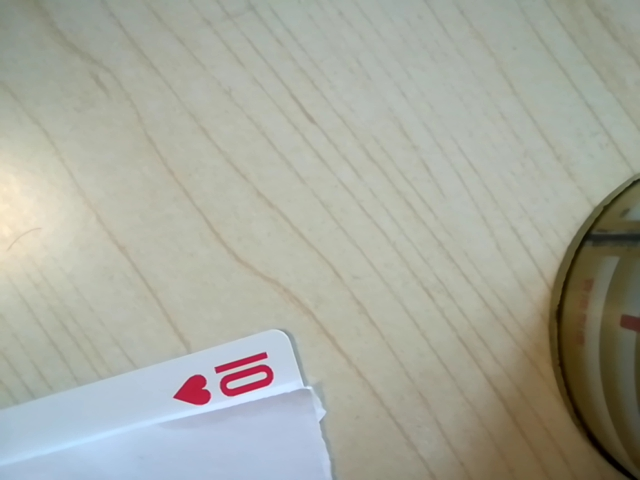hx 10: (166, 348, 290, 419)
